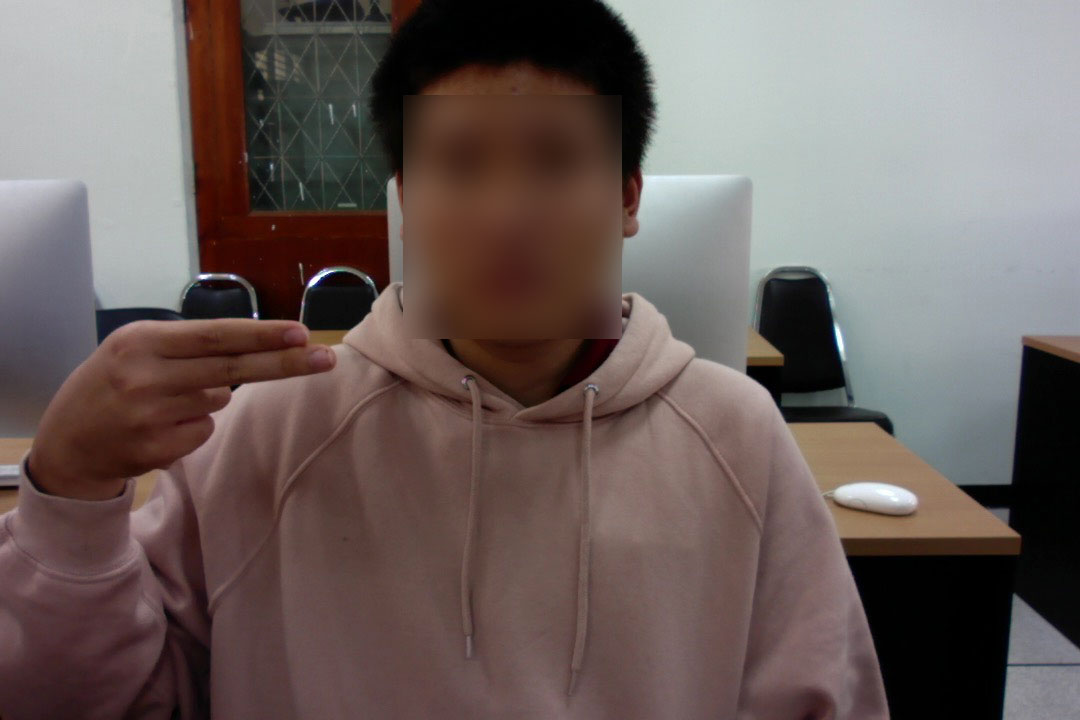hor: (12, 314, 341, 482)
